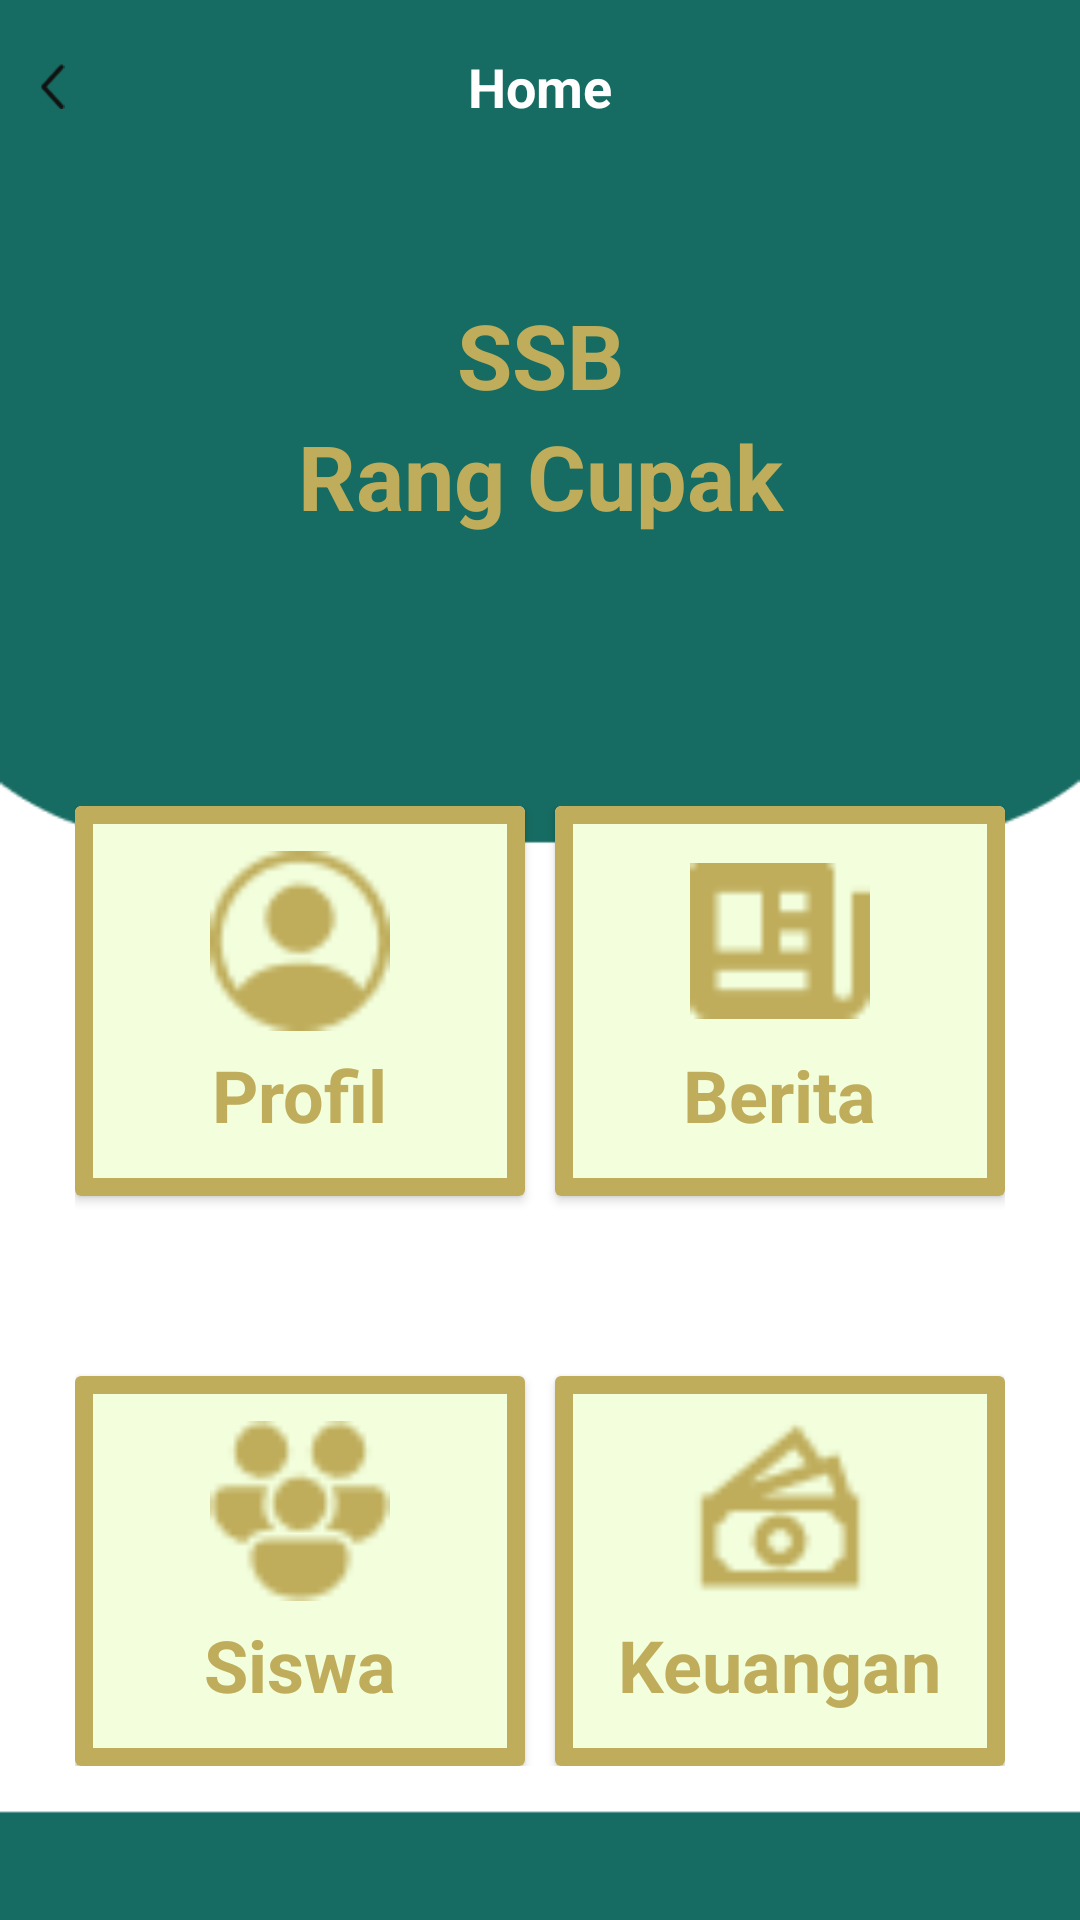

Point at icon controls on the screen. Image size 1080 x 1920, points as (x,y).
back: (53,86)
money: (780,1507)
